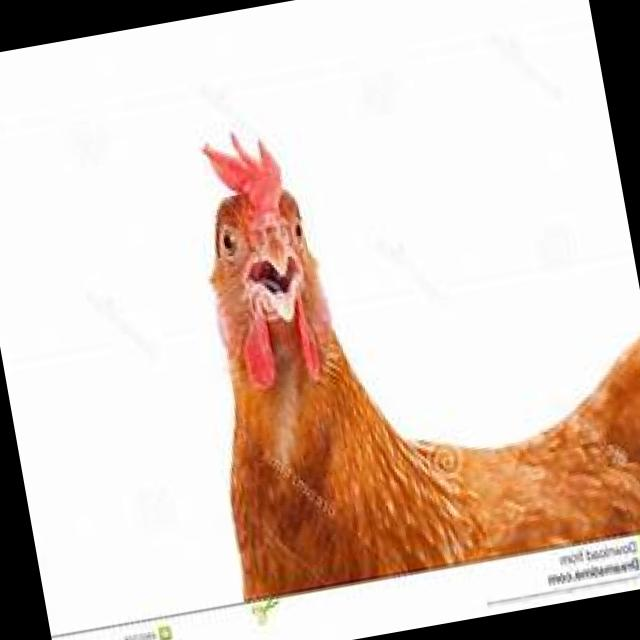animal: (162, 63, 640, 601)
